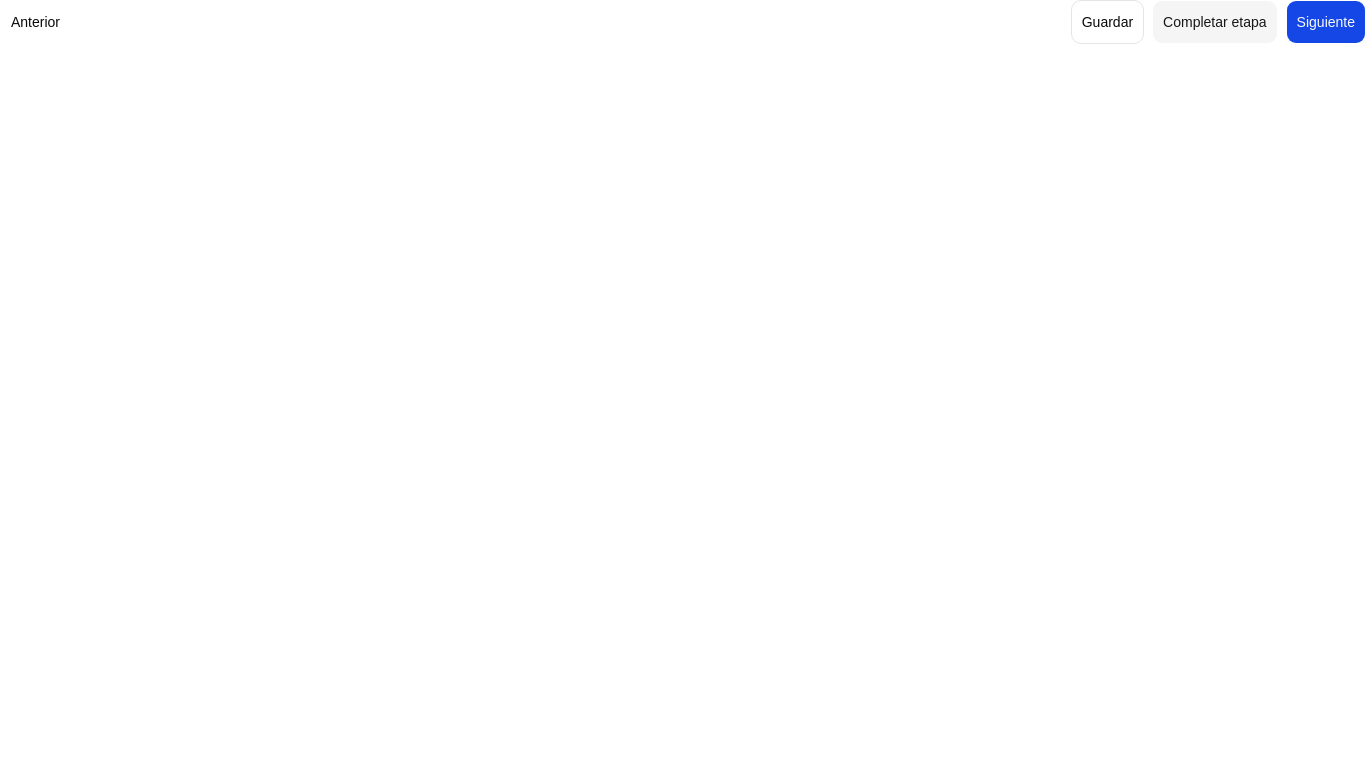
it: CaseWizardActionBar — «Anterior» (SPEC FE16 §4 paso 6) › con el formulario sucio, el diálogo hacia delante sigue confirmando con «Siguiente»
Step 1. Click the button "Siguiente" → (1326, 22), box x1=1286 y1=0 x2=1365 y2=44
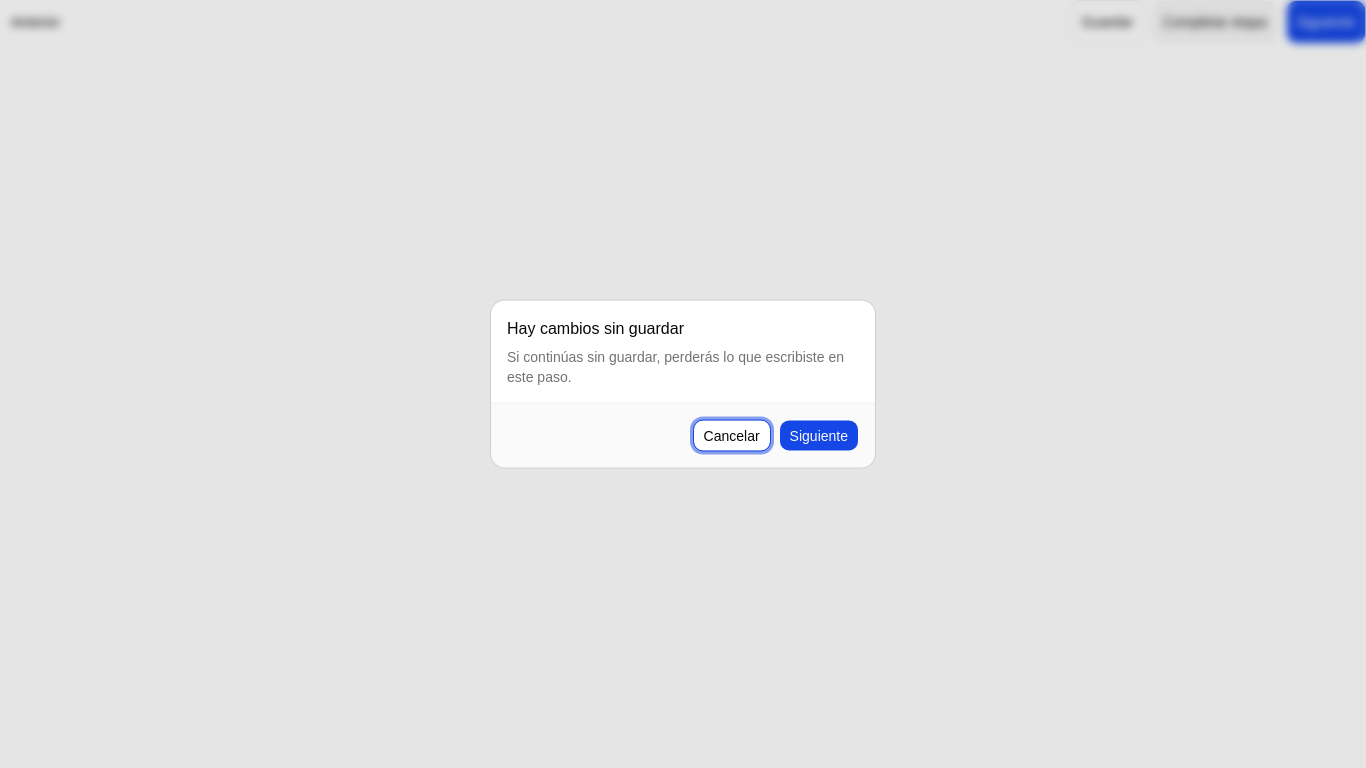
expect the button "Siguiente" is shown: met, box x1=779 y1=420 x2=859 y2=452
